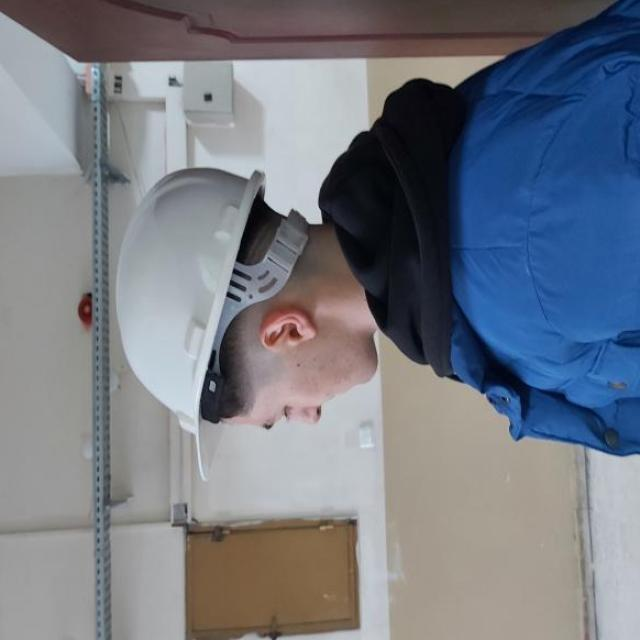helmet: (113, 165, 309, 480)
